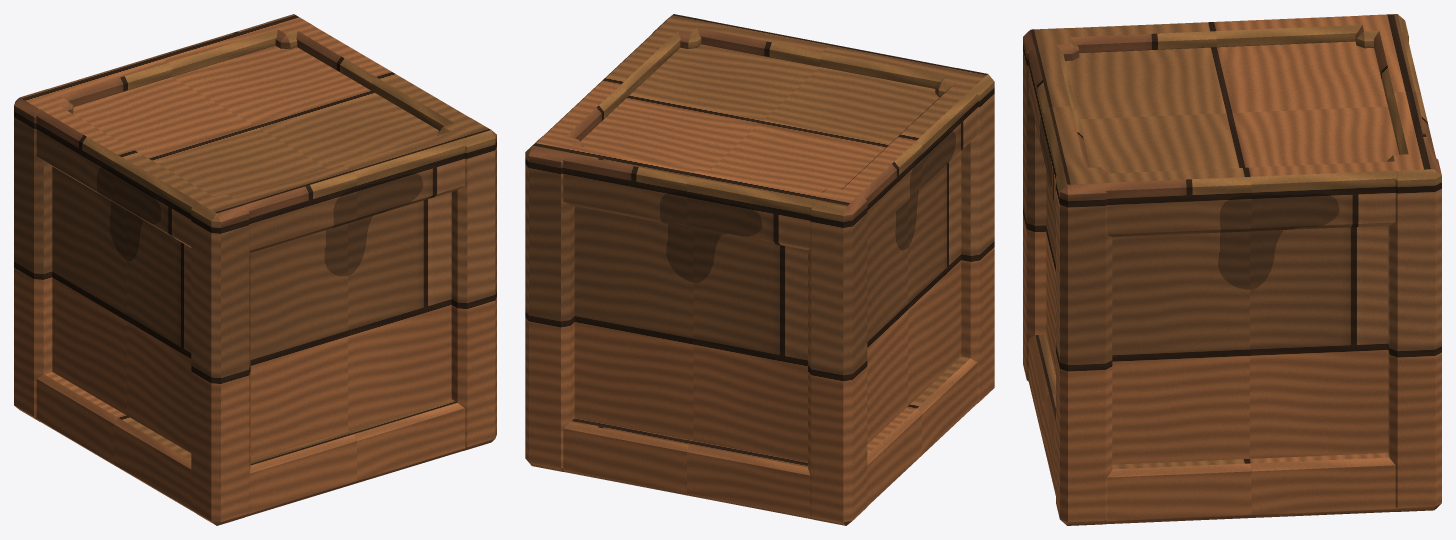
The model's file is Prop_Crate_In.fbx.
3 renders of one model, left to right at view 1: azimuth 30°, elevation 25°; view 2: azimuth 150°, elevation 25°; view 3: azimuth 270°, elevation 25°, orthographic. The views are drawn at different scales.
Parts seen in each view (by area): view 1: Prop_Crate_In; view 2: Prop_Crate_In; view 3: Prop_Crate_In.
Boxes of the visible parts, x1,y1,x2,y2 form: Prop_Crate_In: [14, 14, 496, 525]; Prop_Crate_In: [525, 14, 994, 525]; Prop_Crate_In: [1023, 14, 1441, 525].
Bounding box in the file's own units: 0.5564 × 0.5 × 0.5564.
Materials: 1 (1 with a texture image).
